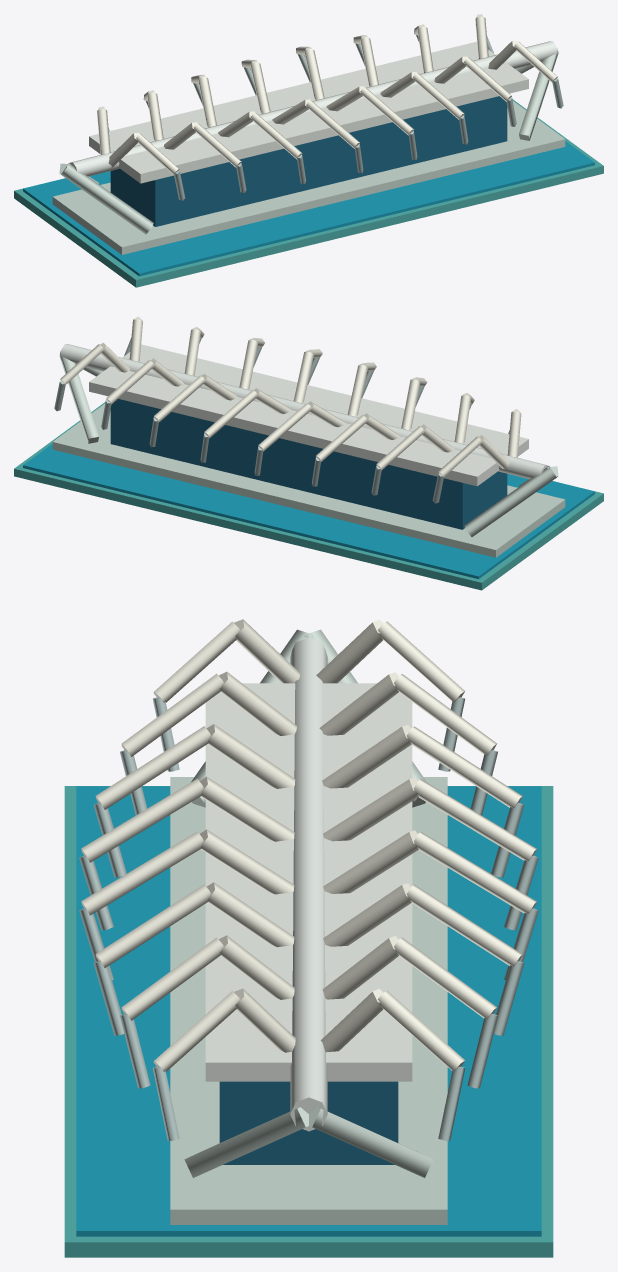
Rendered from museum-of-tomorrow.glb.
3 renders of one model, top to bottom at view 1: azimuth 30°, elevation 25°; view 2: azimuth 150°, elevation 25°; view 3: azimuth 270°, elevation 25°, orthographic. The views are drawn at different scales.
Parts seen in each view (by area): view 1: glazing_759EA0, roof_E5E8DC, water_6EAAAD, canopy_E7EBDD, pier_D5DCCF, base_A9BFB3, spine_E3E9DD, support_DDE5D8, canopy_CEDACE; view 2: glazing_759EA0, roof_E5E8DC, water_6EAAAD, canopy_E7EBDD, pier_D5DCCF, base_A9BFB3, spine_E3E9DD, support_DDE5D8, canopy_CEDACE; view 3: water_6EAAAD, canopy_E7EBDD, roof_E5E8DC, pier_D5DCCF, base_A9BFB3, spine_E3E9DD, canopy_CEDACE, glazing_759EA0, support_DDE5D8.
Boxes of the visible parts, box(x1,y1,x2,y2) form: glazing_759EA0: box(110, 96, 507, 226); roof_E5E8DC: box(89, 41, 528, 183); water_6EAAAD: box(23, 141, 594, 276); canopy_E7EBDD: box(97, 14, 557, 174); pier_D5DCCF: box(52, 101, 565, 254); base_A9BFB3: box(14, 99, 603, 287); spine_E3E9DD: box(69, 41, 557, 176); support_DDE5D8: box(59, 48, 558, 234); canopy_CEDACE: box(108, 35, 563, 200); glazing_759EA0: box(110, 399, 507, 529); roof_E5E8DC: box(89, 344, 528, 486); water_6EAAAD: box(23, 444, 594, 578); canopy_E7EBDD: box(60, 316, 521, 477); pier_D5DCCF: box(52, 403, 565, 557); base_A9BFB3: box(14, 402, 603, 590); spine_E3E9DD: box(60, 344, 548, 479); support_DDE5D8: box(59, 351, 558, 536); canopy_CEDACE: box(54, 337, 509, 503); water_6EAAAD: box(76, 786, 541, 1236); canopy_E7EBDD: box(81, 619, 536, 1071); roof_E5E8DC: box(205, 683, 412, 1081); pier_D5DCCF: box(170, 777, 447, 1224); base_A9BFB3: box(64, 786, 553, 1257); spine_E3E9DD: box(290, 637, 327, 1131); canopy_CEDACE: box(79, 697, 538, 1140); glazing_759EA0: box(219, 1081, 398, 1164); support_DDE5D8: box(184, 629, 433, 1177).
Size of the model in its own units: 1 by 0.2155 by 0.4251.
